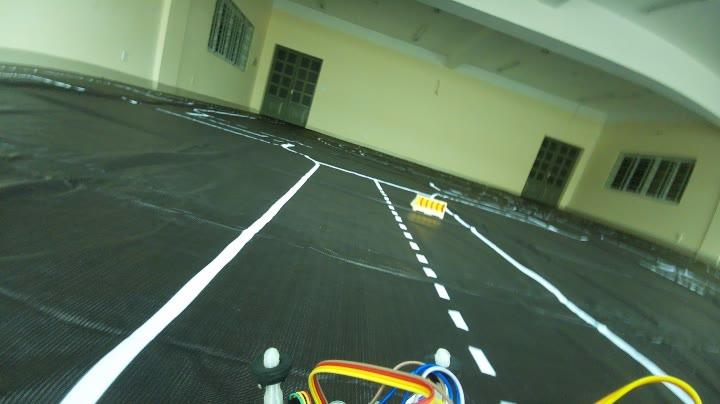roadblock: (404, 187, 456, 223)
